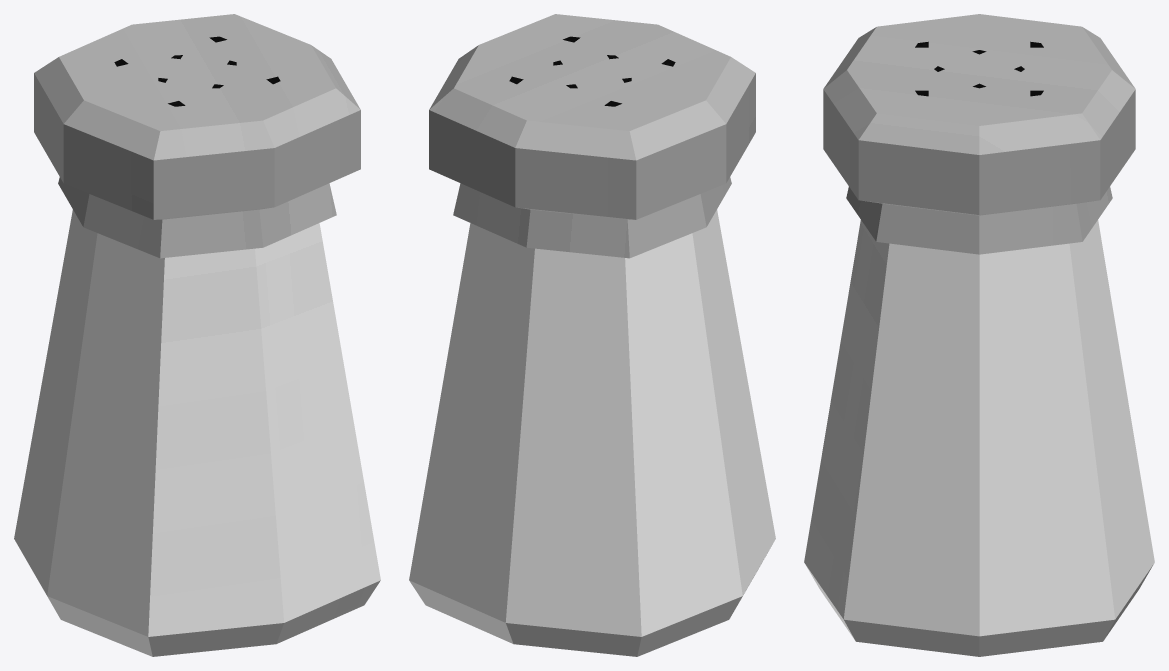
3 renders of one model, left to right at view 1: azimuth 30°, elevation 25°; view 2: azimuth 150°, elevation 25°; view 3: azimuth 270°, elevation 25°, orthographic.
Visible parts, largest first — view 1: Cube.009_Cube.010; view 2: Cube.009_Cube.010; view 3: Cube.009_Cube.010.
Boxes of the visible parts, x1,y1,x2,y2 form: Cube.009_Cube.010: [14, 14, 380, 656]; Cube.009_Cube.010: [409, 14, 775, 656]; Cube.009_Cube.010: [804, 14, 1154, 656].
Size of the model in its own units: 0.418 by 0.6842 by 0.418.
1 material, 1 textured.
